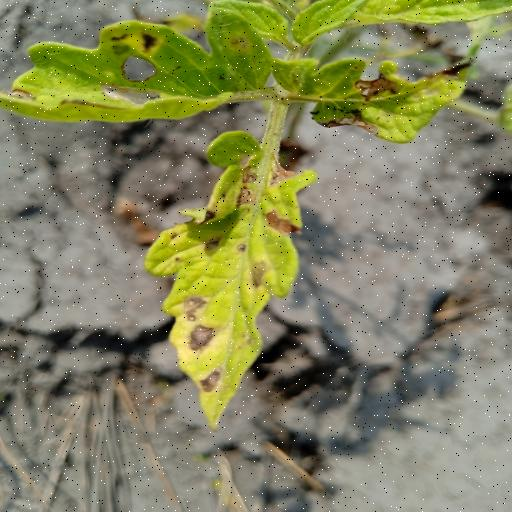Tomato_Brown_Spots: (145, 131, 320, 436), (0, 0, 283, 123), (264, 47, 490, 145)
